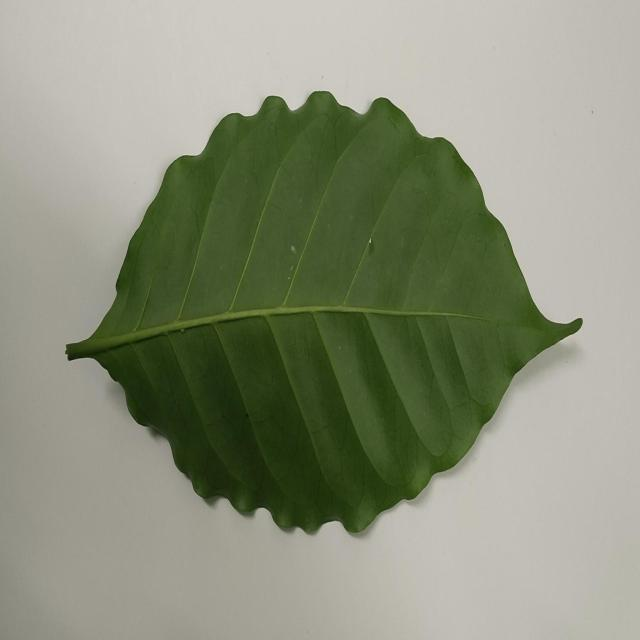Sanas: (64, 92, 584, 538)
